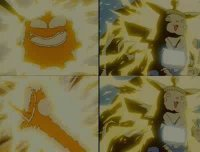pikachu: (123, 1, 197, 74), (123, 77, 195, 152)
